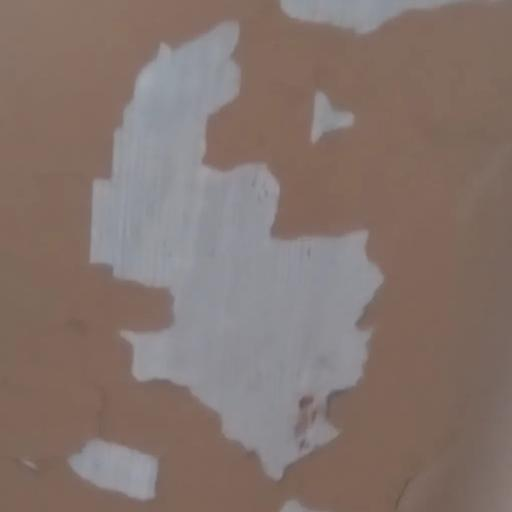peeling: (91, 3, 410, 478), (52, 431, 186, 507), (300, 76, 374, 152)
